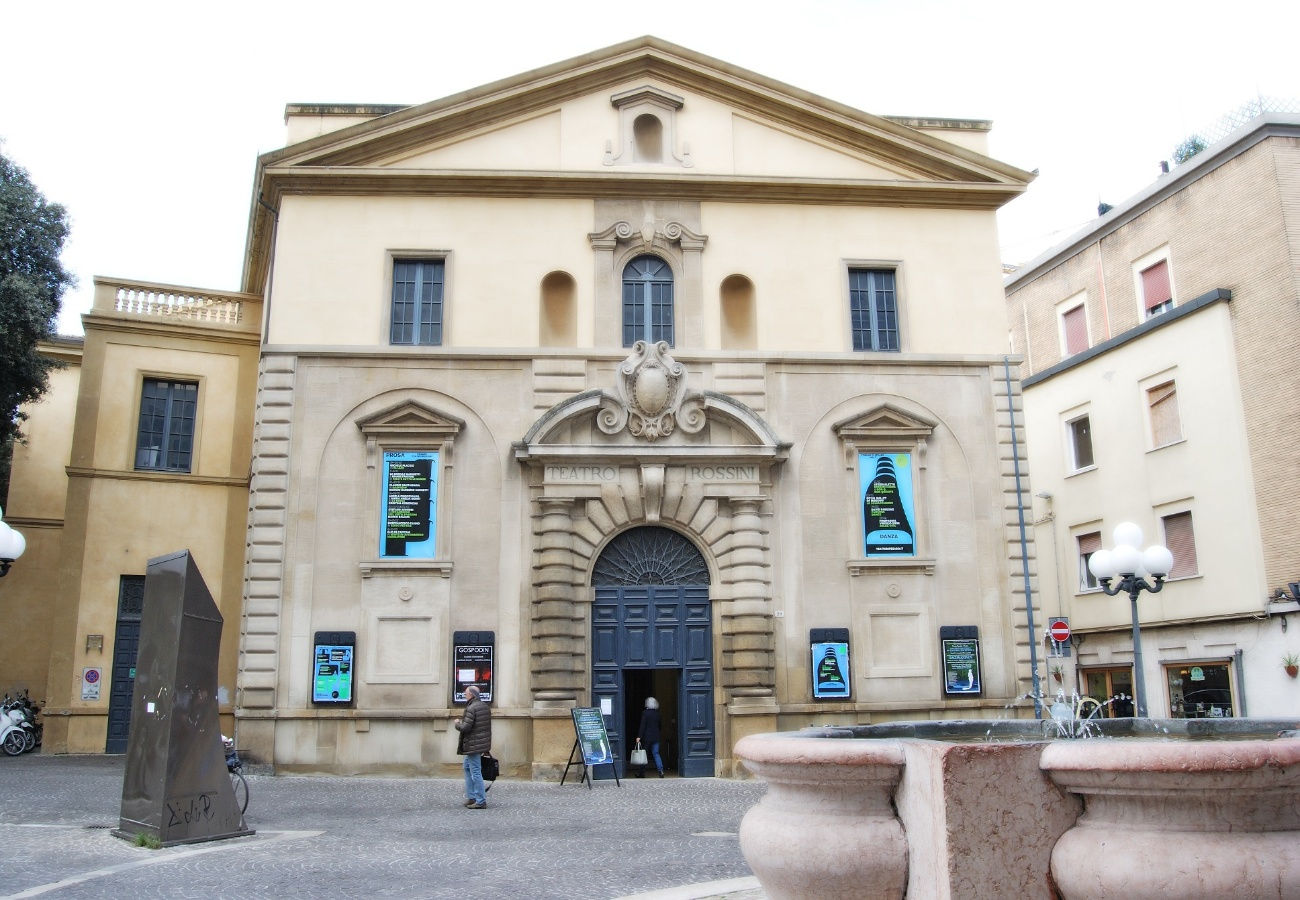Teatro Rossini: (229, 35, 1041, 787)
